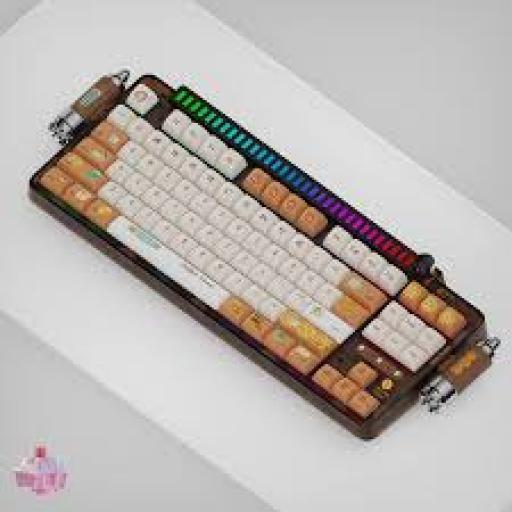keyboard: (16, 69, 496, 457)
